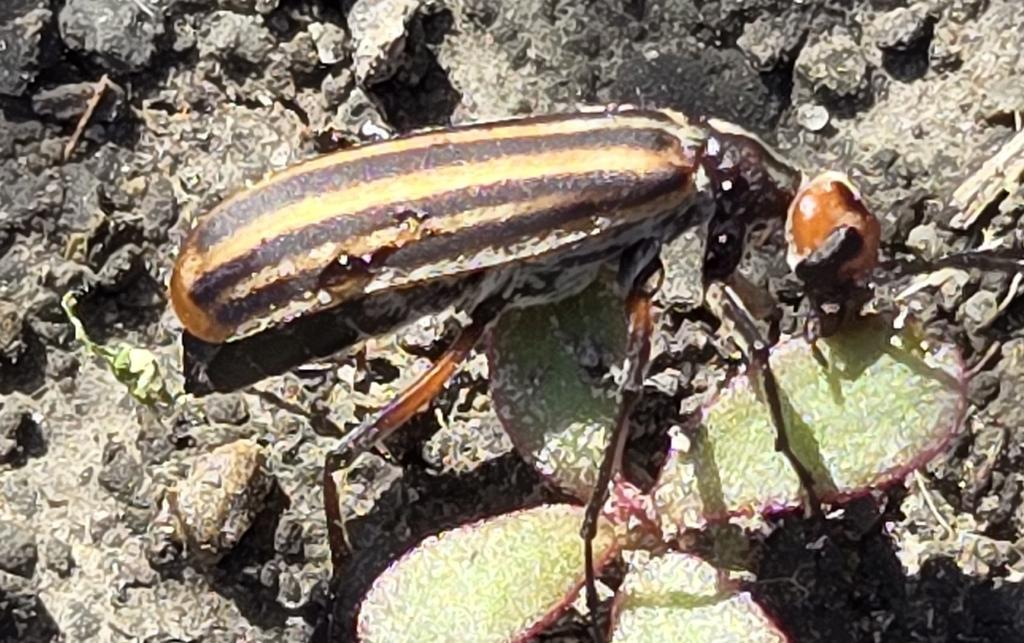blister_beetle: (134, 59, 961, 634)
